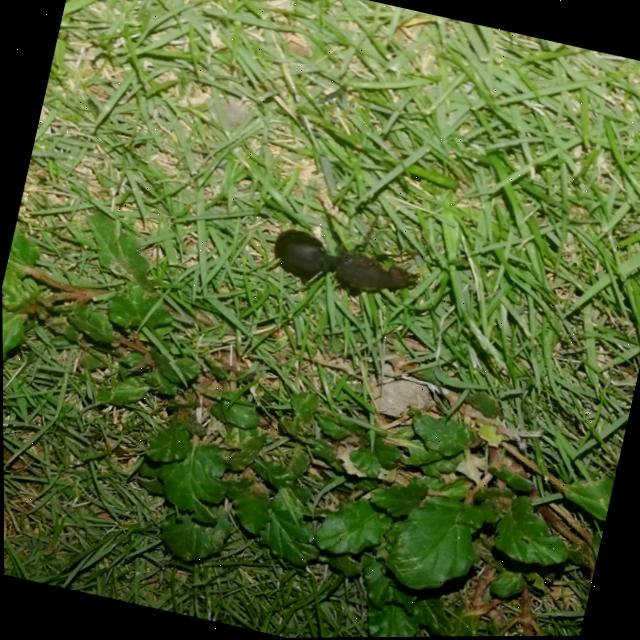Alive-Female-Dealate: (268, 186, 433, 303)
